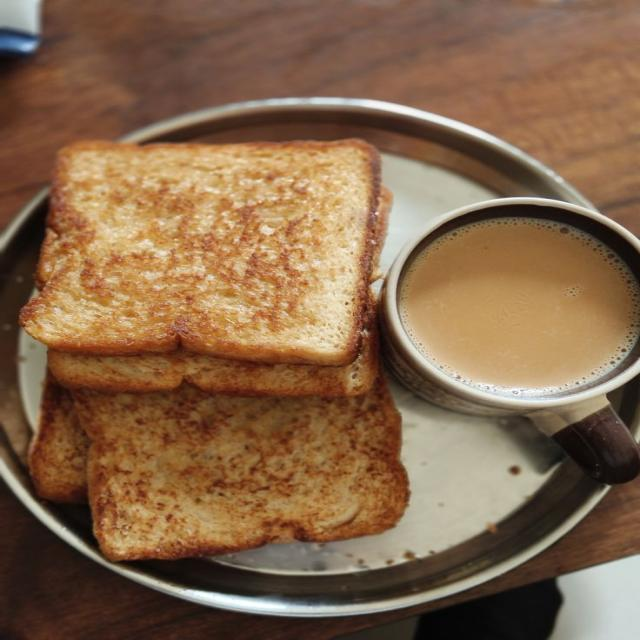toast bread: (21, 140, 379, 365), (73, 378, 408, 560), (48, 291, 379, 396), (48, 301, 379, 396), (28, 374, 88, 502)
